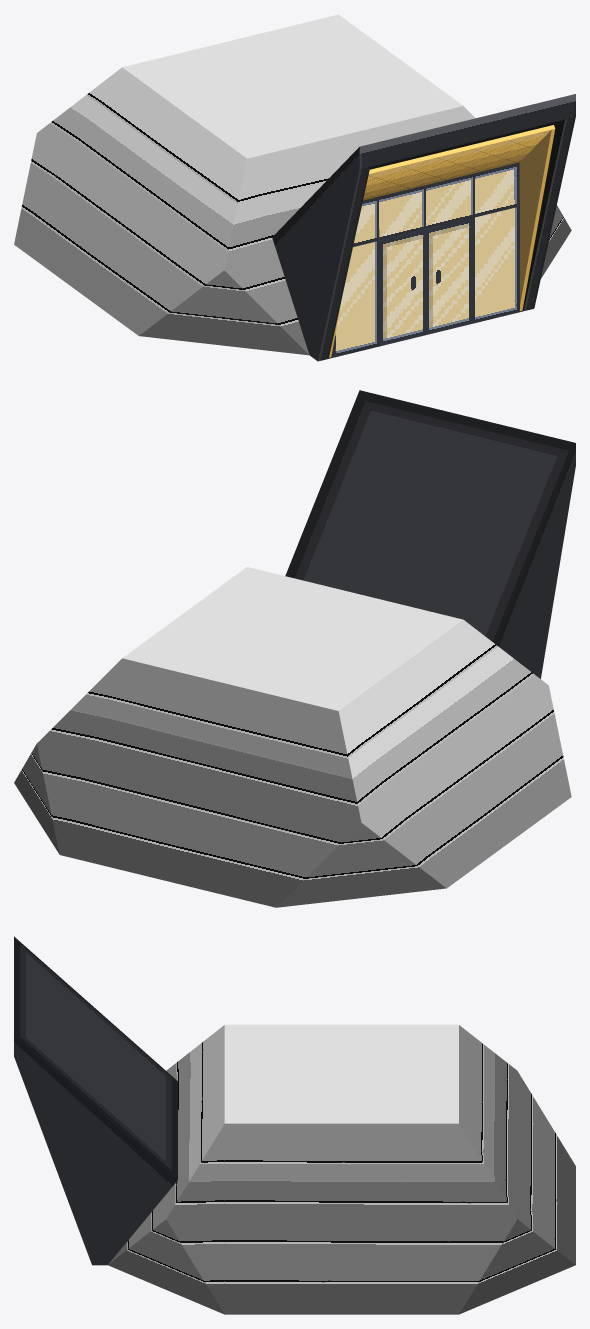
Rendered from john.glb.
3 views of the same model, one above another, from view 1: azimuth 30°, elevation 25°; view 2: azimuth 150°, elevation 25°; view 3: azimuth 270°, elevation 25° (orthographic). The views are drawn at different scales.
Parts seen in each view (by area): view 1: Cube, Cube.001, Plane; view 2: Cube, Cube.001; view 3: Cube, Cube.001.
Part boxes in pixels (x1,y1,x2,y2): Cube: [14, 14, 571, 355]; Cube.001: [272, 94, 575, 361]; Plane: [379, 218, 472, 346]; Cube: [14, 567, 571, 907]; Cube.001: [285, 390, 575, 678]; Cube: [108, 1024, 575, 1314]; Cube.001: [14, 936, 177, 1265].
Size of the model in its own units: 6 by 3.25 by 7.2.
Materials: 4 (4 with a texture image).
